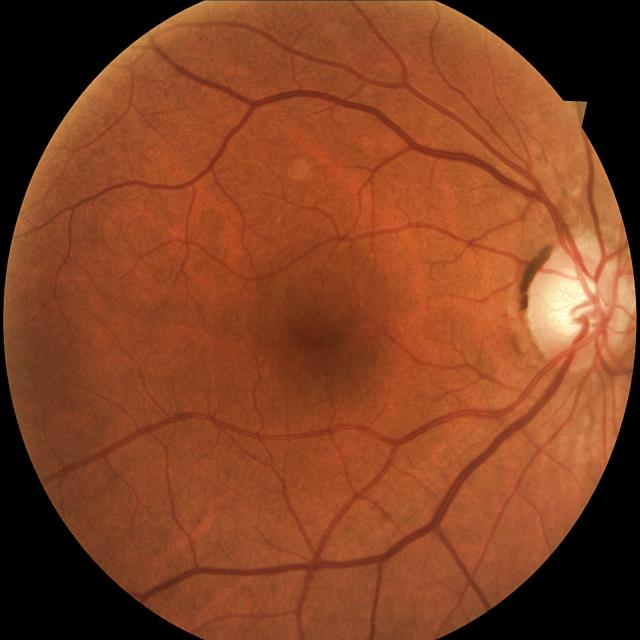OC: (544, 275, 600, 336)
OD: (526, 239, 636, 366)
